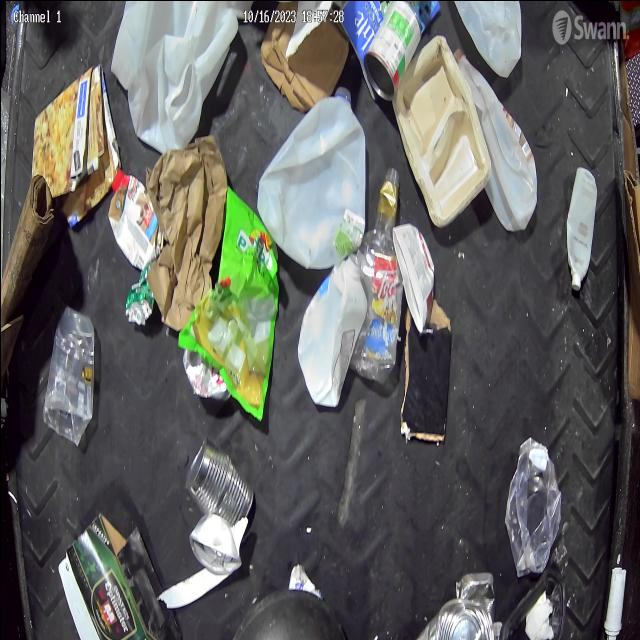can: (184, 434, 255, 534), (362, 0, 422, 101), (415, 597, 493, 640), (125, 260, 154, 326)
milk_jug: (110, 0, 253, 153), (256, 85, 365, 269), (451, 48, 536, 231), (296, 258, 366, 406), (108, 167, 164, 268), (454, 0, 522, 77), (566, 166, 596, 290)
plastic_bottle: (352, 165, 404, 384)
